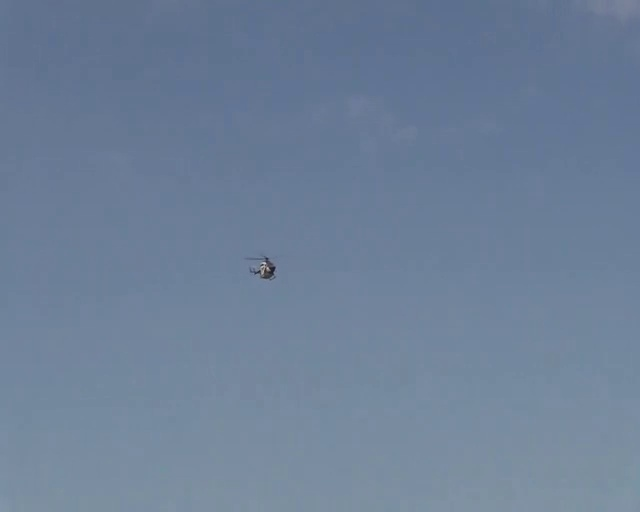HELICOPTER: (245, 255, 277, 279)
